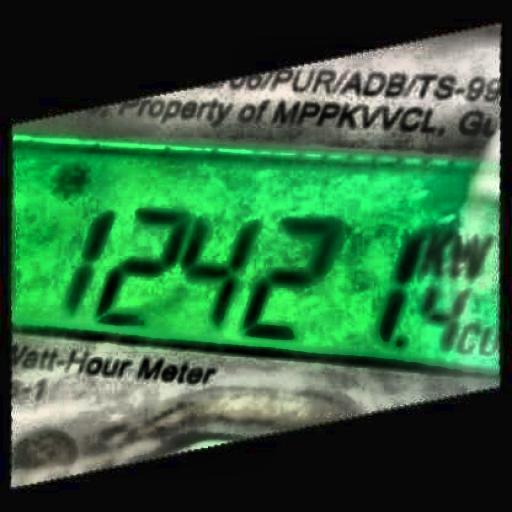SERIAL_REGION: (54, 203, 489, 358)
